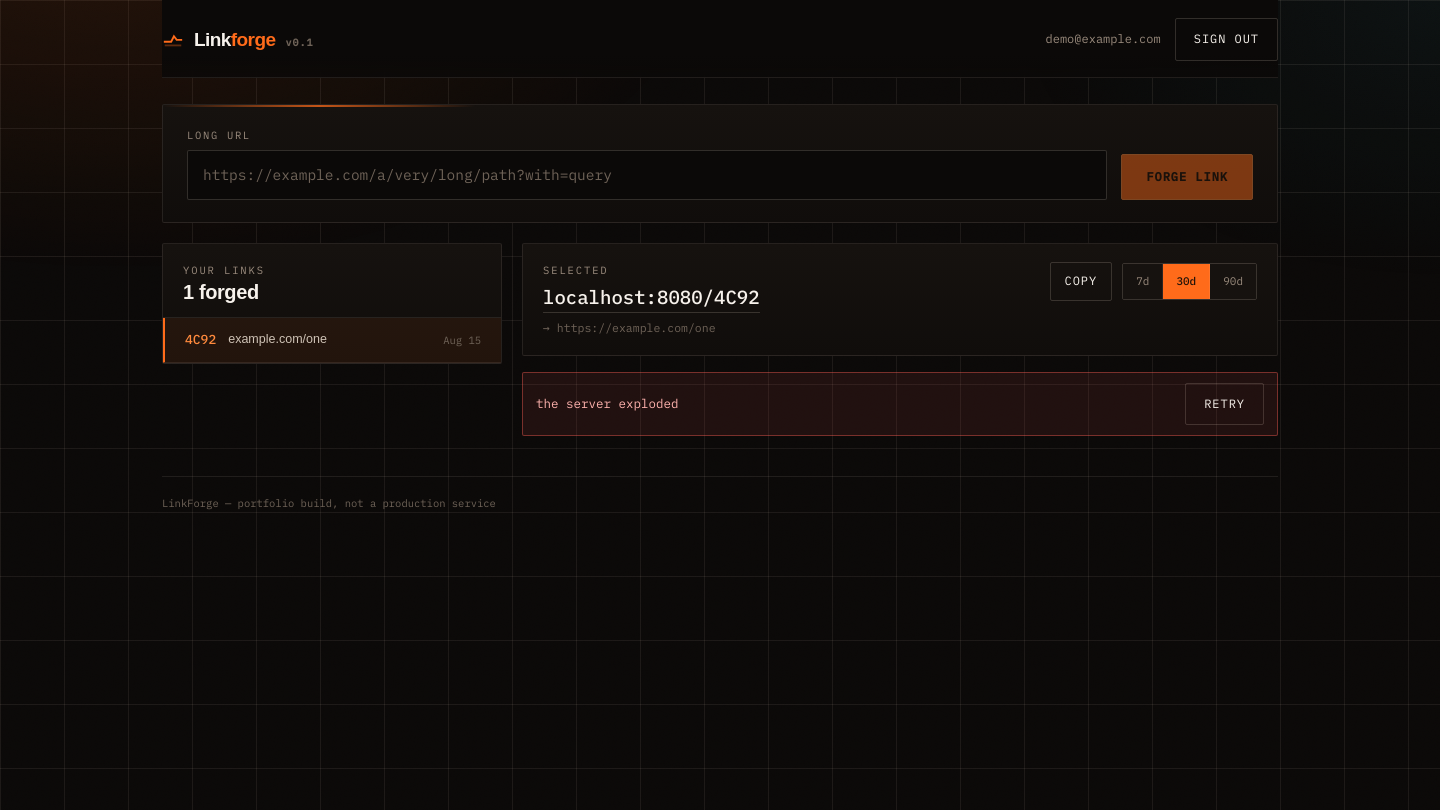
Test: DashboardPage analytics panel › can retry after a failure
This screenshot has width=1440, height=810.
Step 1. Click the button "Retry" → (1225, 404), box [1185,383,1264,425]
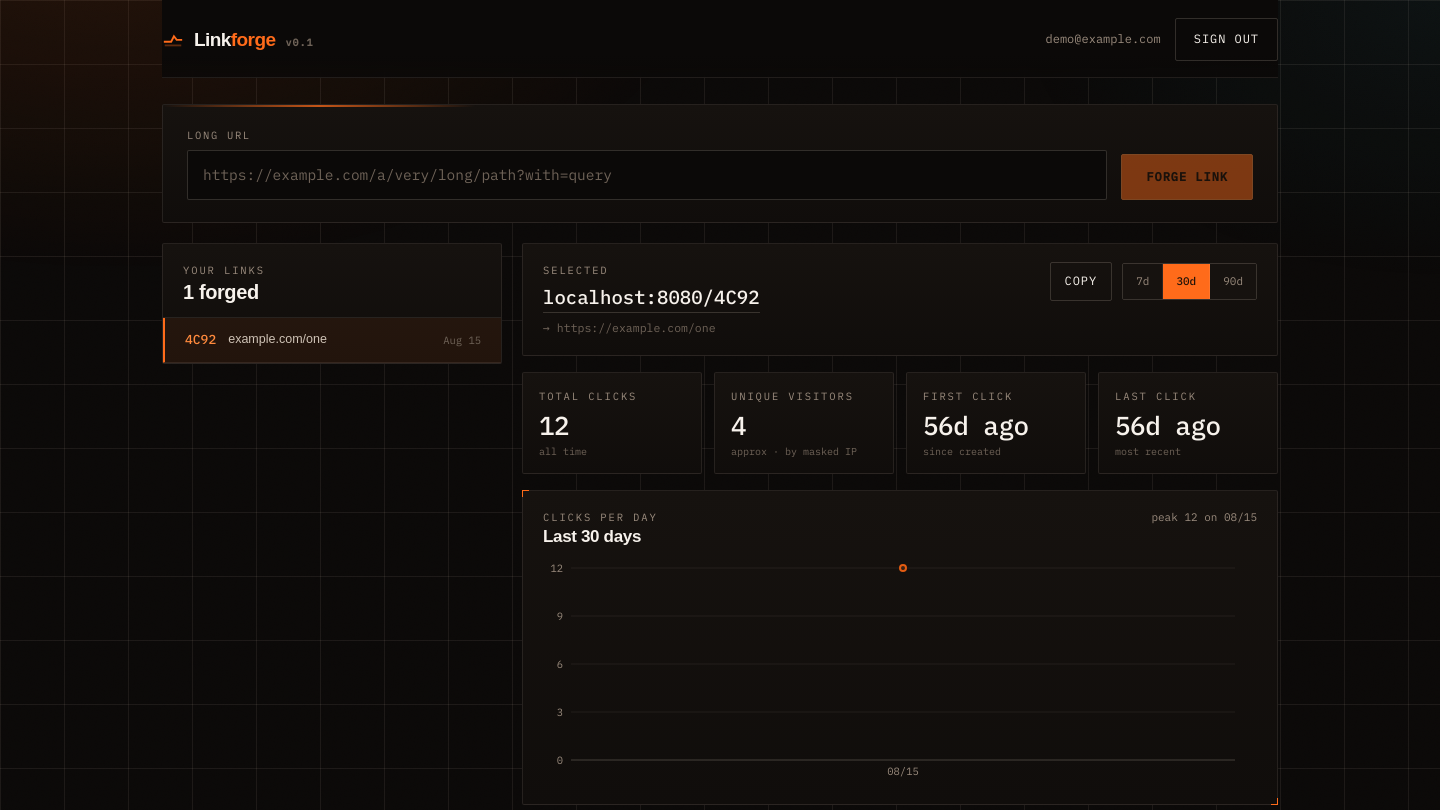
Check: the text "Total clicks" is shown, box [539,389,637,403]
Check: the message "the server exploded Retry" is gone
